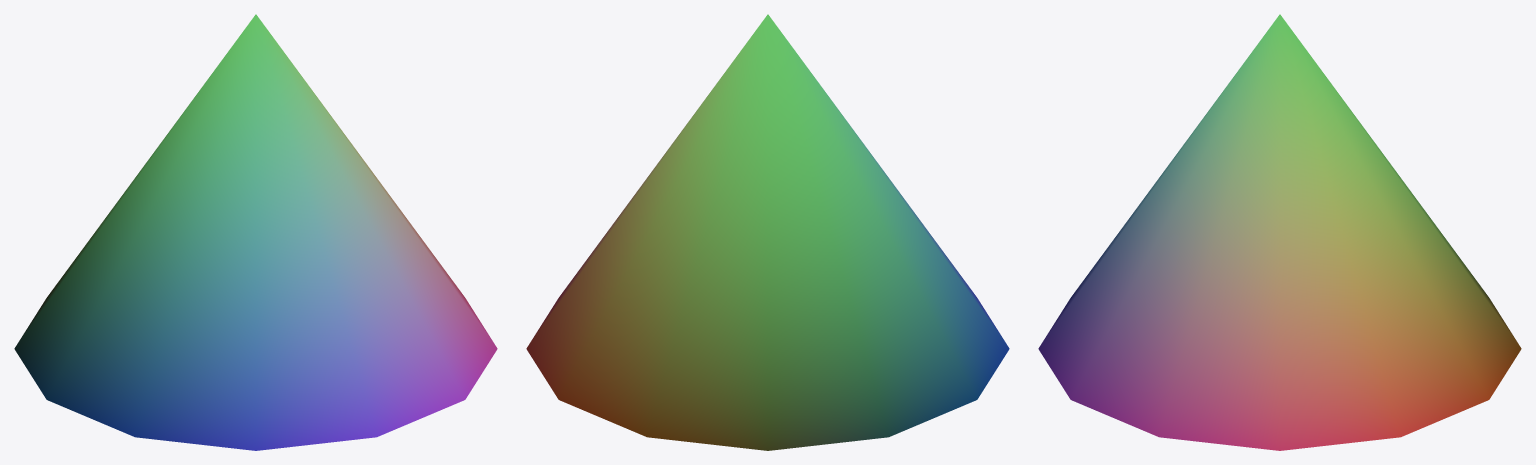
The model's file is zeometry-basic-shapes-cone_v1.glb.
3 views of the same model, side by side, from view 1: azimuth 30°, elevation 25°; view 2: azimuth 150°, elevation 25°; view 3: azimuth 270°, elevation 25° (orthographic).
Visible parts, largest first — view 1: Cone; view 2: Cone; view 3: Cone.
Part boxes in pixels (<box>): Cone: <box>14,14,497,450</box>; Cone: <box>526,14,1009,450</box>; Cone: <box>1038,14,1521,450</box>.
Size of the model in its own units: 0.5 by 0.3822 by 0.5.
